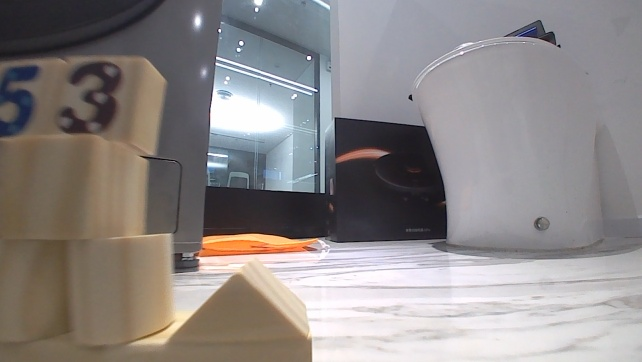plastic_toy: (0, 54, 314, 361)
toilet: (408, 33, 605, 253)
washing_machine1: (0, 0, 222, 269)
